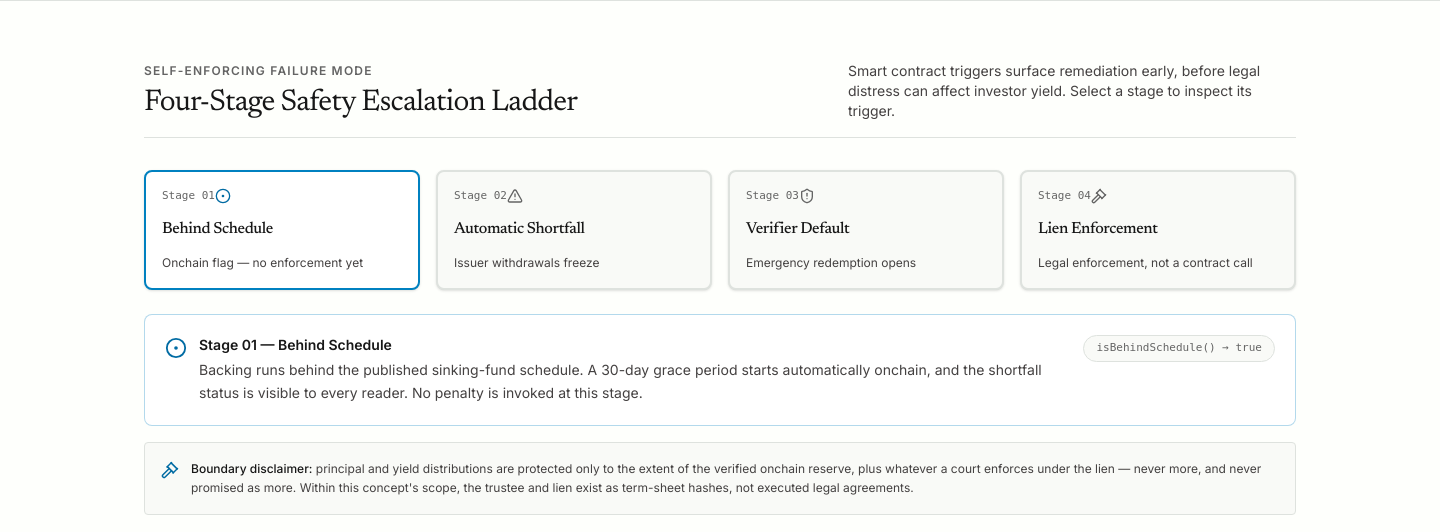
SafetyLadder › shifts the split to the real 40/45/10/5 figures, not the reference's invented 85/15
Step 1. Click the button "Stage 02 Automatic Shortfall Issuer withdrawals freeze" → (574, 230), box [436, 170, 712, 290]
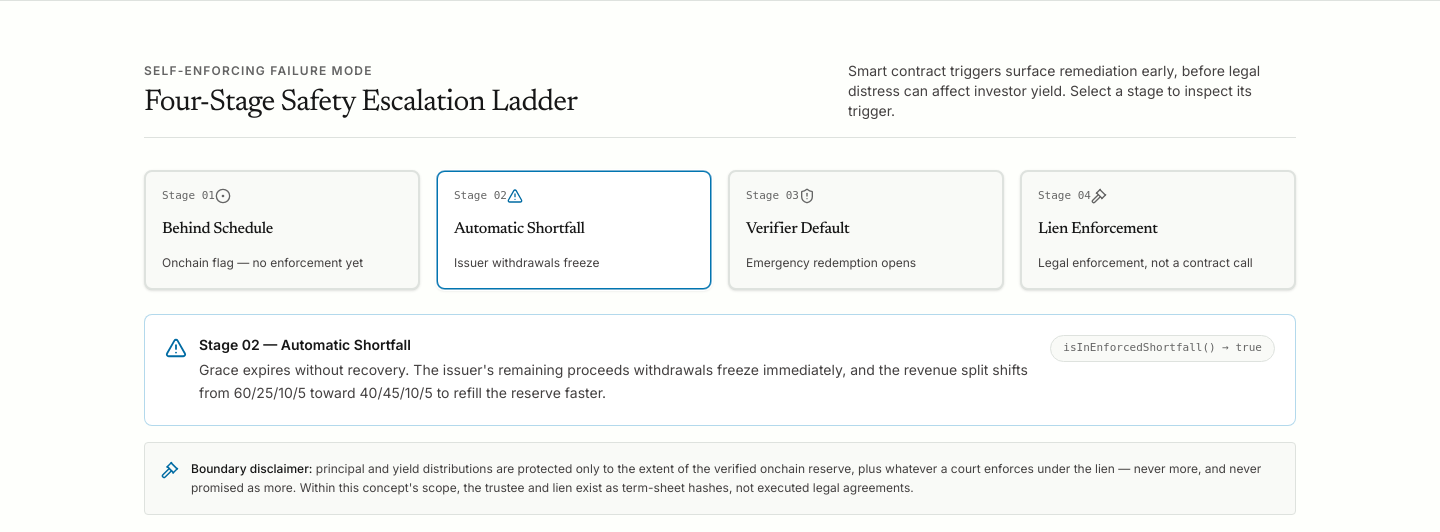
Result: the text "40/45/10/5" is shown at [199, 361, 1028, 401]
